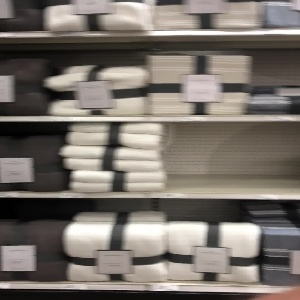void: (169, 122, 300, 195)
